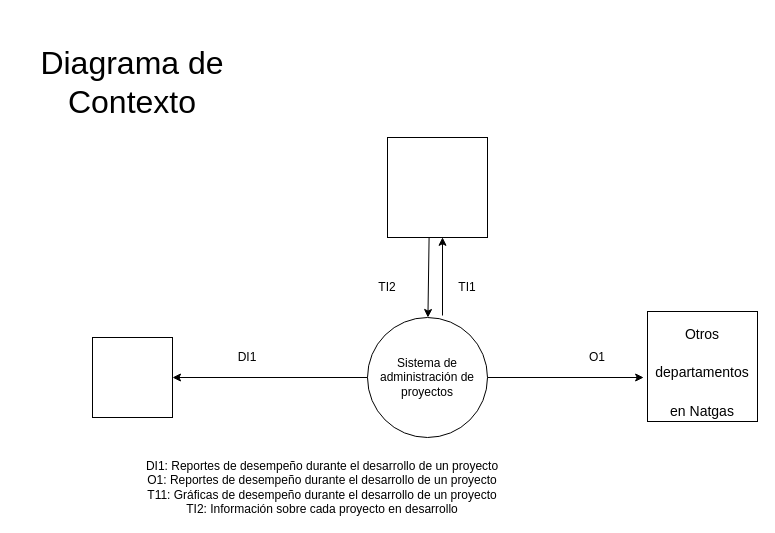
This 775x533 diagram has some shape labels left out. Each missing label, with the centre of its shape:
Departamento de TI: the point at 437,187
Directivos de NatGas: the point at 132,377
